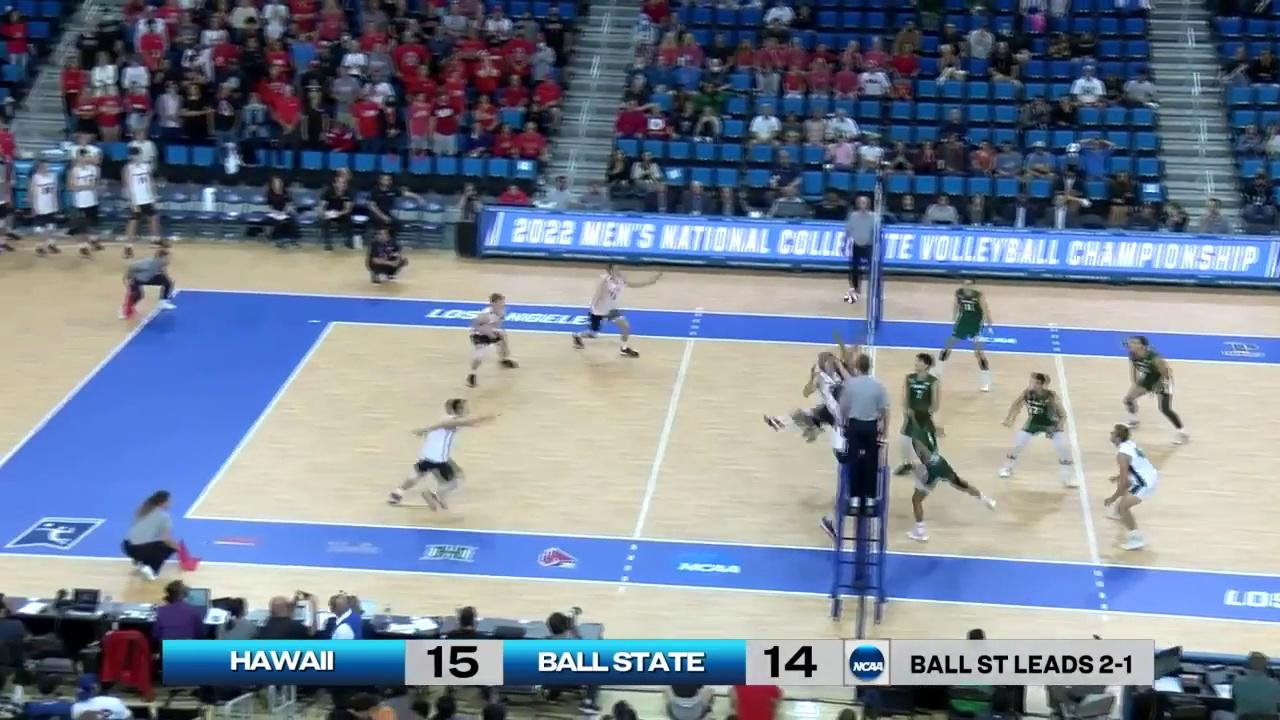player: (908, 410, 994, 543), (388, 398, 478, 511), (760, 341, 852, 443), (1000, 374, 1082, 485), (1117, 337, 1189, 444), (819, 364, 861, 539), (1104, 424, 1160, 553), (939, 276, 995, 390), (573, 266, 638, 358), (898, 354, 941, 476), (467, 295, 520, 387)
refree: (124, 485, 204, 584), (839, 356, 891, 508), (124, 251, 180, 318), (845, 196, 880, 301)
